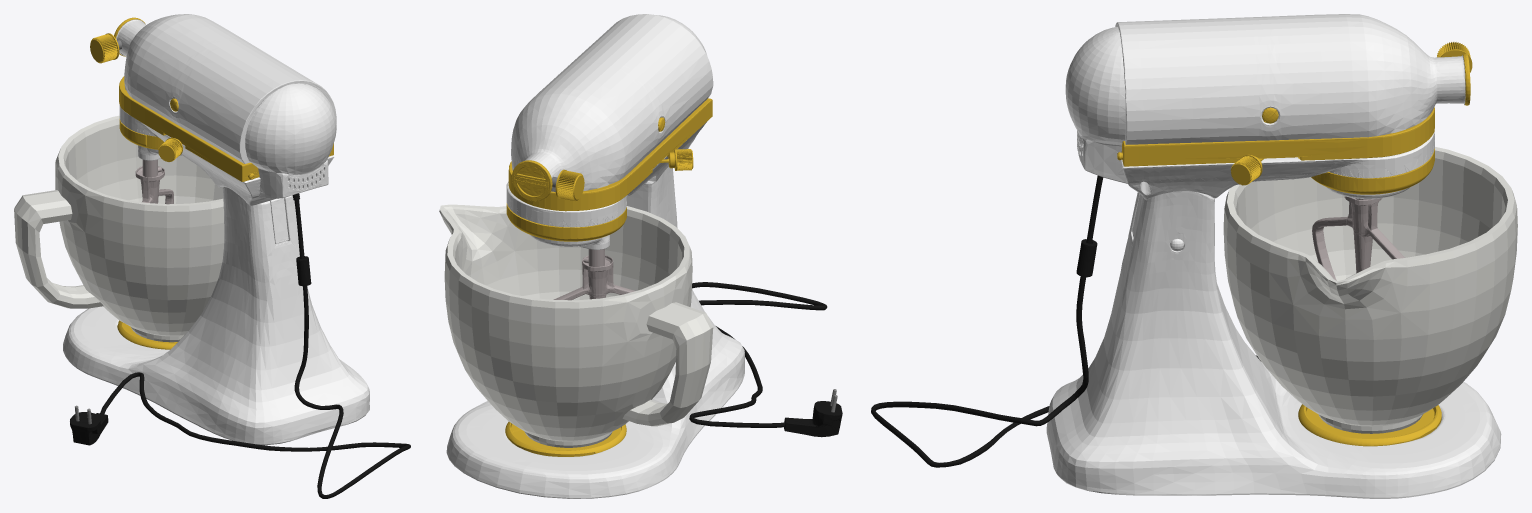
Rendered from mixer_white.glb.
3 views of the same model, side by side, from view 1: azimuth 30°, elevation 25°; view 2: azimuth 150°, elevation 25°; view 3: azimuth 270°, elevation 25° (orthographic). The views are drawn at different scales.
Parts seen in each view (by area): view 1: 4470295b-b1a4-4d05-807c-27aae7a9ef98; view 2: 4470295b-b1a4-4d05-807c-27aae7a9ef98; view 3: 4470295b-b1a4-4d05-807c-27aae7a9ef98.
Part boxes in pixels (bbox=[...]): 4470295b-b1a4-4d05-807c-27aae7a9ef98: bbox=[14, 14, 410, 498]; 4470295b-b1a4-4d05-807c-27aae7a9ef98: bbox=[439, 14, 842, 498]; 4470295b-b1a4-4d05-807c-27aae7a9ef98: bbox=[871, 14, 1517, 498].
Bounding box in the file's own units: 0.1264 × 0.1288 × 0.1797.
